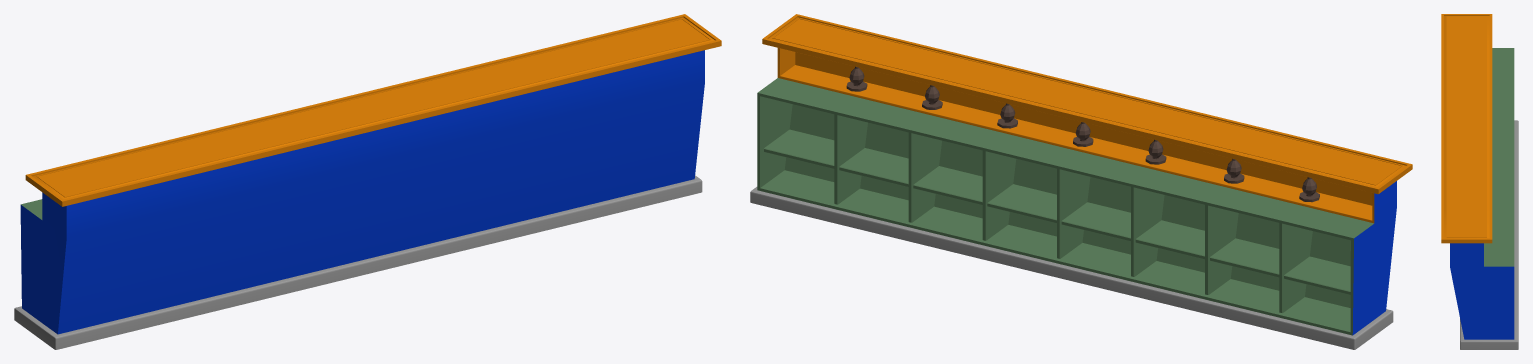
Rendered from Bancone.fbx.
3 renders of one model, left to right at view 1: azimuth 30°, elevation 25°; view 2: azimuth 150°, elevation 25°; view 3: azimuth 270°, elevation 25°, orthographic. The views are drawn at different scales.
Visible parts, largest first — view 1: Bancone2; view 2: Bancone2; view 3: Bancone2.
Part boxes in pixels (bbox=[...]): Bancone2: bbox=[14, 14, 721, 349]; Bancone2: bbox=[750, 14, 1412, 349]; Bancone2: bbox=[1441, 14, 1518, 349].
Bounding box in the file's own units: 4.96 × 1.15 × 0.72.
